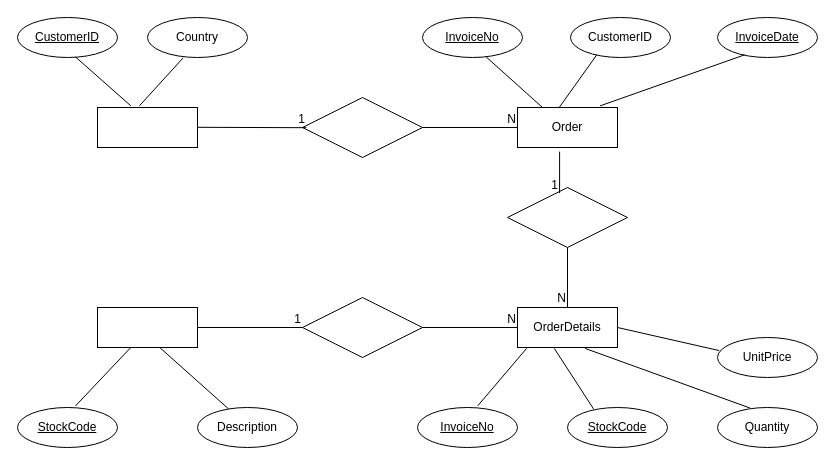
The diagram is 835 pixels wide and 465 high, and some of its shapes have lost their labels. Here are the shapes that lost their labels. From the top down, the box of each, then its label:
(96, 106, 198, 148): Customer
(302, 96, 422, 158): Makes
(506, 186, 628, 248): Contain
(96, 306, 198, 348): Product
(302, 296, 422, 358): Refers to
